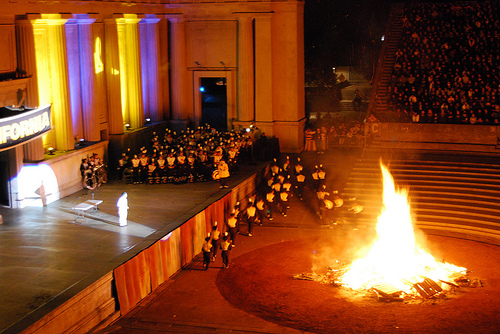fire: (335, 176, 464, 291)
